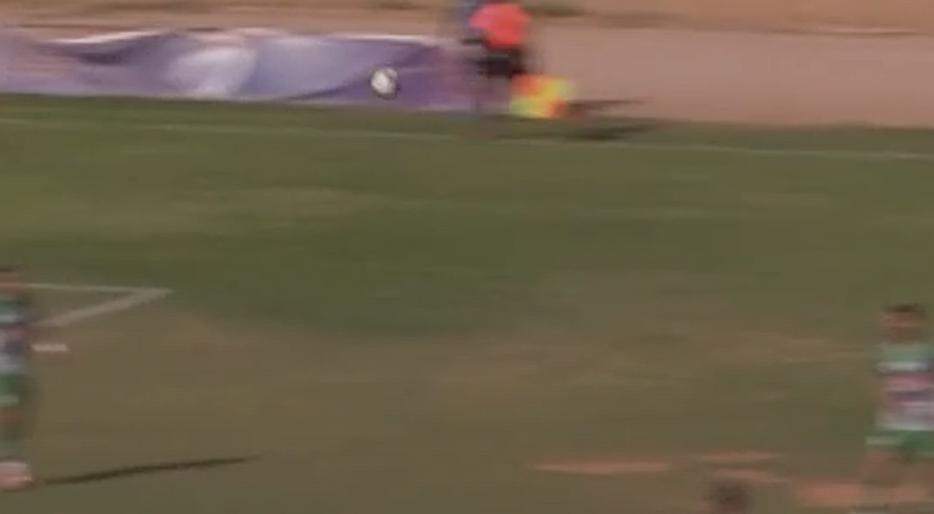ball: (360, 57, 413, 105)
